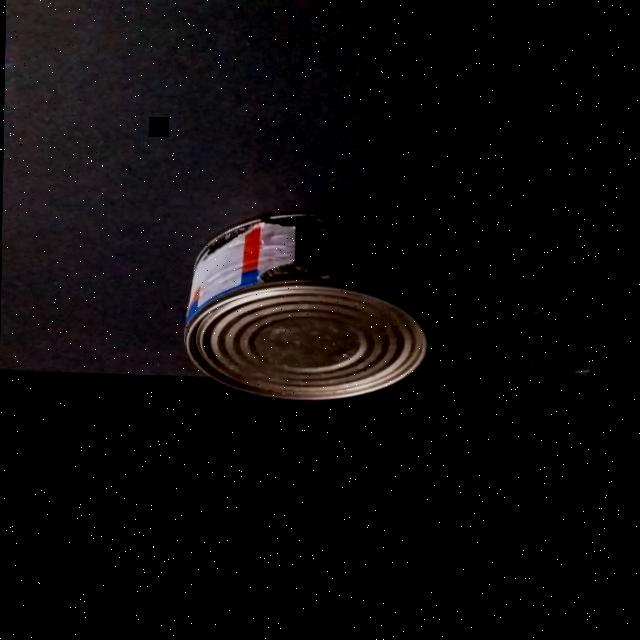can: (180, 206, 432, 410)
